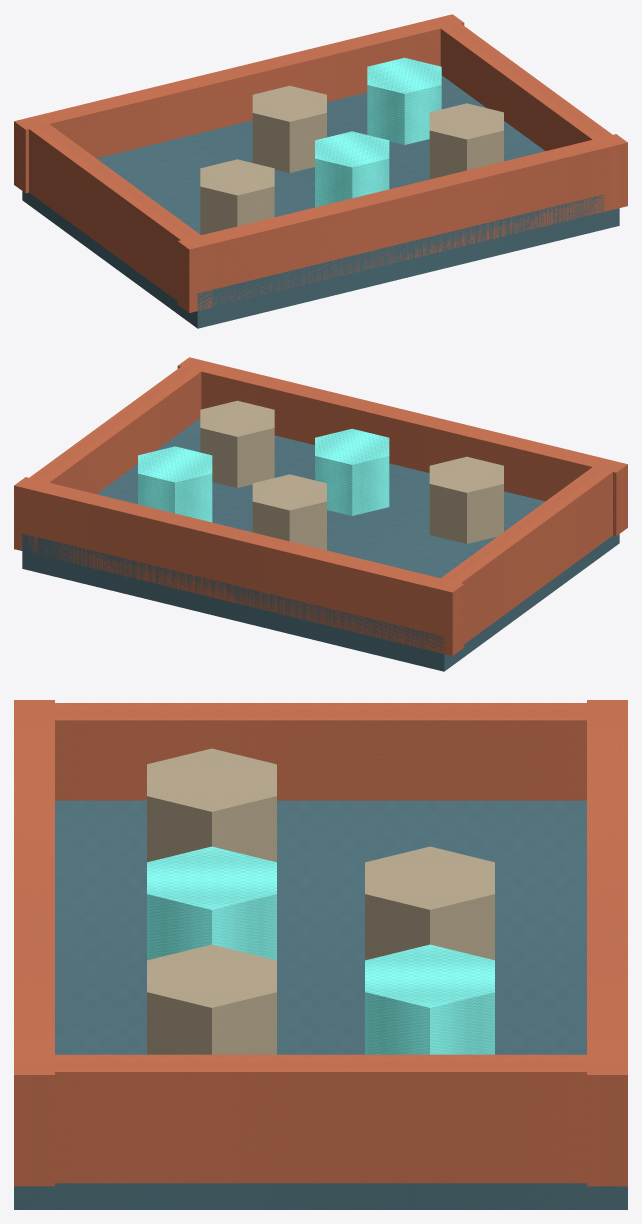
Rendered from atlas100-s042-a03.lod1.glb.
3 views of the same model, one above another, from view 1: azimuth 30°, elevation 25°; view 2: azimuth 150°, elevation 25°; view 3: azimuth 270°, elevation 25° (orthographic). The views are drawn at different scales.
Parts seen in each view (by area): view 1: atlas100-s042-a03:part-000, atlas100-s042-a03:part-002, atlas100-s042-a03:part-001, atlas100-s042-a03:part-003, atlas100-s042-a03:part-004, atlas100-s042-a03:part-007, atlas100-s042-a03:part-006, atlas100-s042-a03:part-010, atlas100-s042-a03:part-008, atlas100-s042-a03:part-009; view 2: atlas100-s042-a03:part-001, atlas100-s042-a03:part-000, atlas100-s042-a03:part-002, atlas100-s042-a03:part-003, atlas100-s042-a03:part-004, atlas100-s042-a03:part-008, atlas100-s042-a03:part-009, atlas100-s042-a03:part-010, atlas100-s042-a03:part-007, atlas100-s042-a03:part-006; view 3: atlas100-s042-a03:part-000, atlas100-s042-a03:part-004, atlas100-s042-a03:part-003, atlas100-s042-a03:part-001, atlas100-s042-a03:part-002, atlas100-s042-a03:part-007, atlas100-s042-a03:part-010, atlas100-s042-a03:part-008, atlas100-s042-a03:part-006, atlas100-s042-a03:part-009.
Boxes of the visible parts, left/top/right/bottom form: atlas100-s042-a03:part-000: left=22, top=75, right=619, bottom=328; atlas100-s042-a03:part-002: left=177, top=134, right=627, bottom=312; atlas100-s042-a03:part-001: left=14, top=14, right=464, bottom=193; atlas100-s042-a03:part-003: left=29, top=124, right=212, bottom=311; atlas100-s042-a03:part-004: left=430, top=15, right=624, bottom=211; atlas100-s042-a03:part-007: left=367, top=57, right=441, bottom=144; atlas100-s042-a03:part-006: left=252, top=85, right=326, bottom=172; atlas100-s042-a03:part-010: left=429, top=103, right=503, bottom=179; atlas100-s042-a03:part-008: left=200, top=159, right=274, bottom=235; atlas100-s042-a03:part-009: left=315, top=131, right=389, bottom=207; atlas100-s042-a03:part-001: left=14, top=477, right=464, bottom=655; atlas100-s042-a03:part-000: left=22, top=418, right=619, bottom=671; atlas100-s042-a03:part-002: left=177, top=357, right=627, bottom=536; atlas100-s042-a03:part-003: left=429, top=467, right=612, bottom=654; atlas100-s042-a03:part-004: left=17, top=358, right=211, bottom=554; atlas100-s042-a03:part-008: left=429, top=456, right=503, bottom=543; atlas100-s042-a03:part-009: left=315, top=428, right=389, bottom=515; atlas100-s042-a03:part-010: left=200, top=400, right=274, bottom=487; atlas100-s042-a03:part-007: left=138, top=446, right=212, bottom=522; atlas100-s042-a03:part-006: left=252, top=474, right=326, bottom=550; atlas100-s042-a03:part-000: left=14, top=800, right=627, bottom=1209; atlas100-s042-a03:part-004: left=14, top=1054, right=627, bottom=1183; atlas100-s042-a03:part-003: left=14, top=703, right=627, bottom=800; atlas100-s042-a03:part-001: left=587, top=700, right=627, bottom=1186; atlas100-s042-a03:part-002: left=14, top=700, right=54, bottom=1186; atlas100-s042-a03:part-007: left=365, top=944, right=494, bottom=1054; atlas100-s042-a03:part-010: left=147, top=944, right=276, bottom=1054; atlas100-s042-a03:part-008: left=147, top=748, right=276, bottom=862; atlas100-s042-a03:part-006: left=365, top=846, right=494, bottom=960; atlas100-s042-a03:part-009: left=147, top=846, right=276, bottom=960.
Size of the model in its own units: 1.36 by 0.2563 by 0.9414.
Materials: 4 (4 with a texture image).
